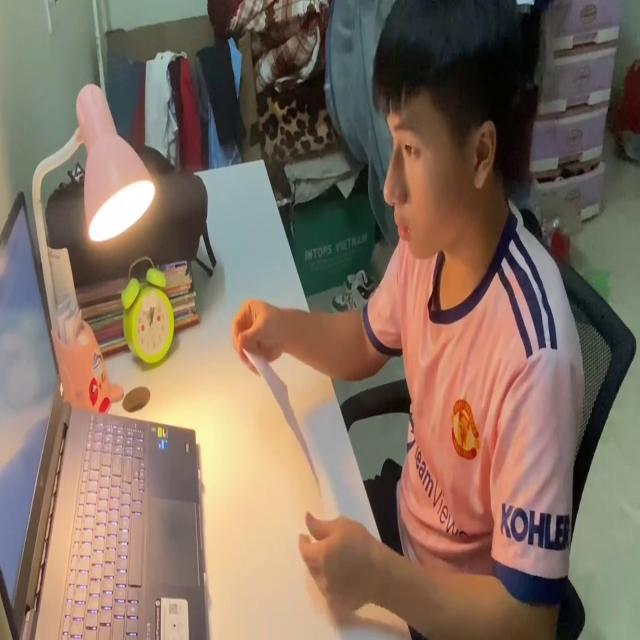book: (240, 334, 335, 526)
laptop: (0, 184, 209, 640)
student: (227, 0, 583, 640)
